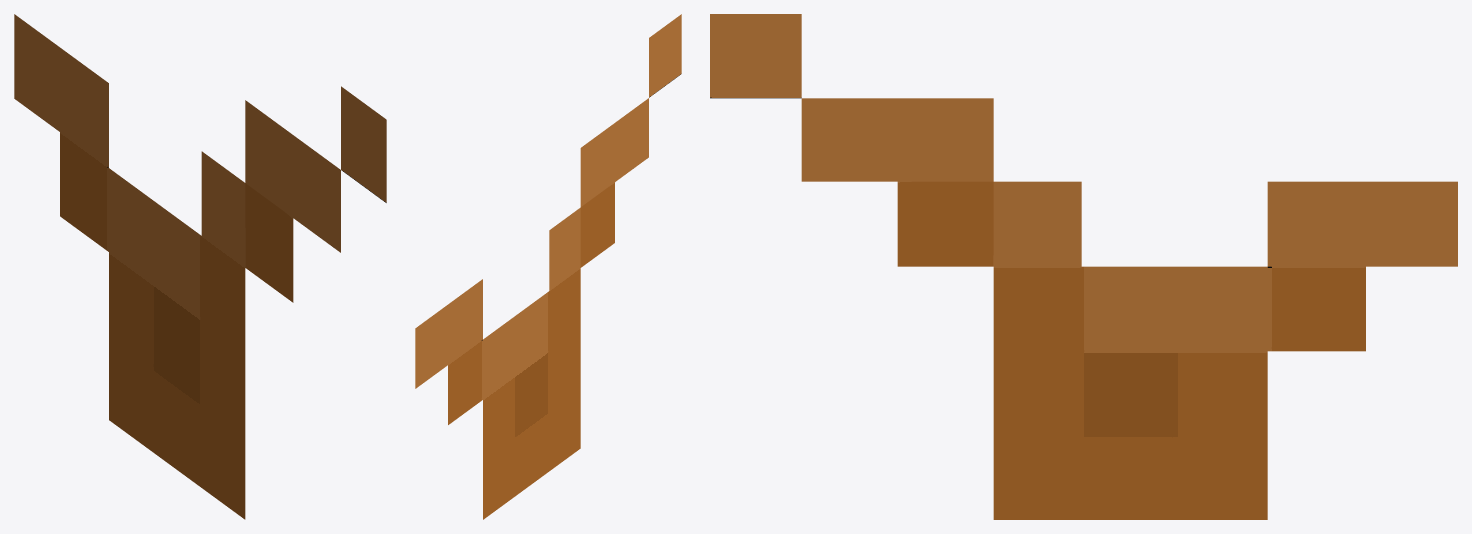
The model's file is Mesh_Deco_Herbe_3.glb.
3 views of the same model, side by side, from view 1: azimuth 30°, elevation 25°; view 2: azimuth 150°, elevation 25°; view 3: azimuth 270°, elevation 25° (orthographic). The views are drawn at different scales.
Parts seen in each view (by area): view 1: Mesh_Deco_Herbe_3; view 2: Mesh_Deco_Herbe_3; view 3: Mesh_Deco_Herbe_3.
Part boxes in pixels (<box>): Mesh_Deco_Herbe_3: <box>14,14,386,519</box>; Mesh_Deco_Herbe_3: <box>415,14,681,519</box>; Mesh_Deco_Herbe_3: <box>710,14,1457,519</box>.
Bounding box in the file's own units: 1.43e-08 × 0.3264 × 0.4372.
1 material, 1 textured.
